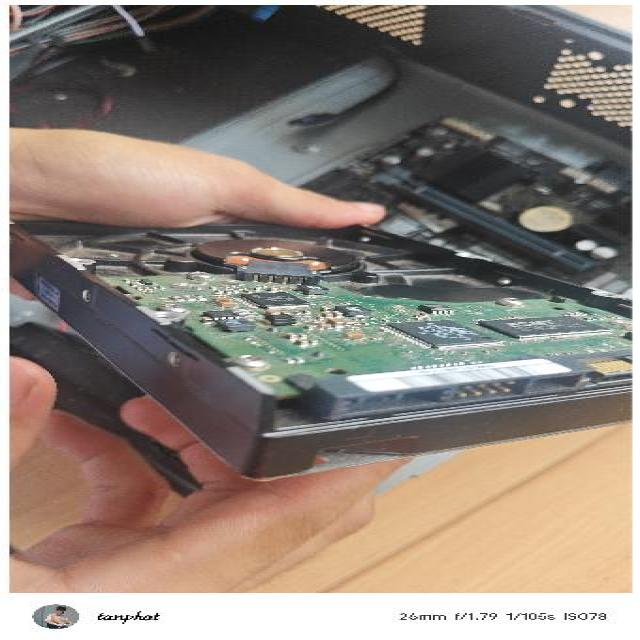DISK: (10, 194, 634, 481)
